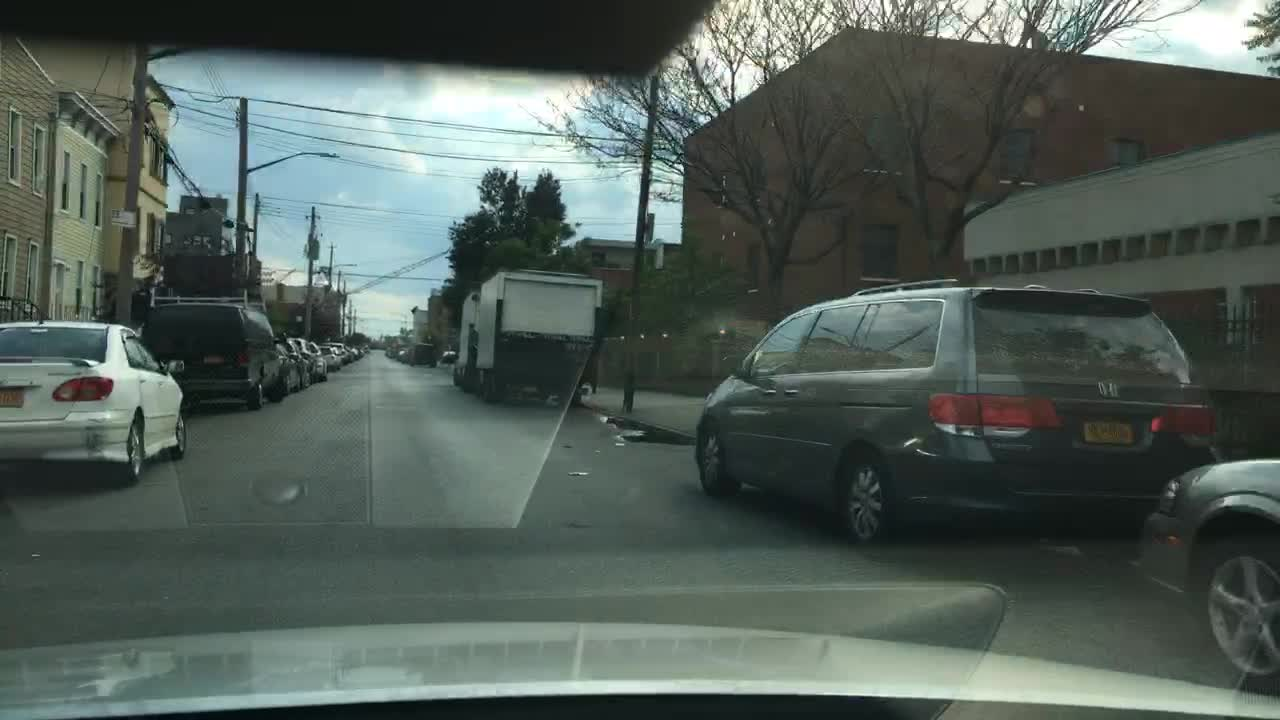car: (695, 277, 1220, 545), (1143, 455, 1279, 696), (0, 320, 186, 486), (136, 288, 285, 410), (288, 336, 318, 386), (276, 336, 302, 393), (307, 341, 328, 382), (405, 342, 437, 367), (322, 342, 355, 362), (317, 345, 340, 370), (330, 346, 347, 365), (440, 349, 459, 364), (394, 348, 409, 361), (347, 345, 360, 358), (355, 345, 366, 357), (388, 347, 396, 358), (360, 344, 369, 353), (385, 345, 391, 356)
traffic sign: (110, 209, 136, 228)
truck: (472, 269, 606, 406), (452, 289, 480, 394)
